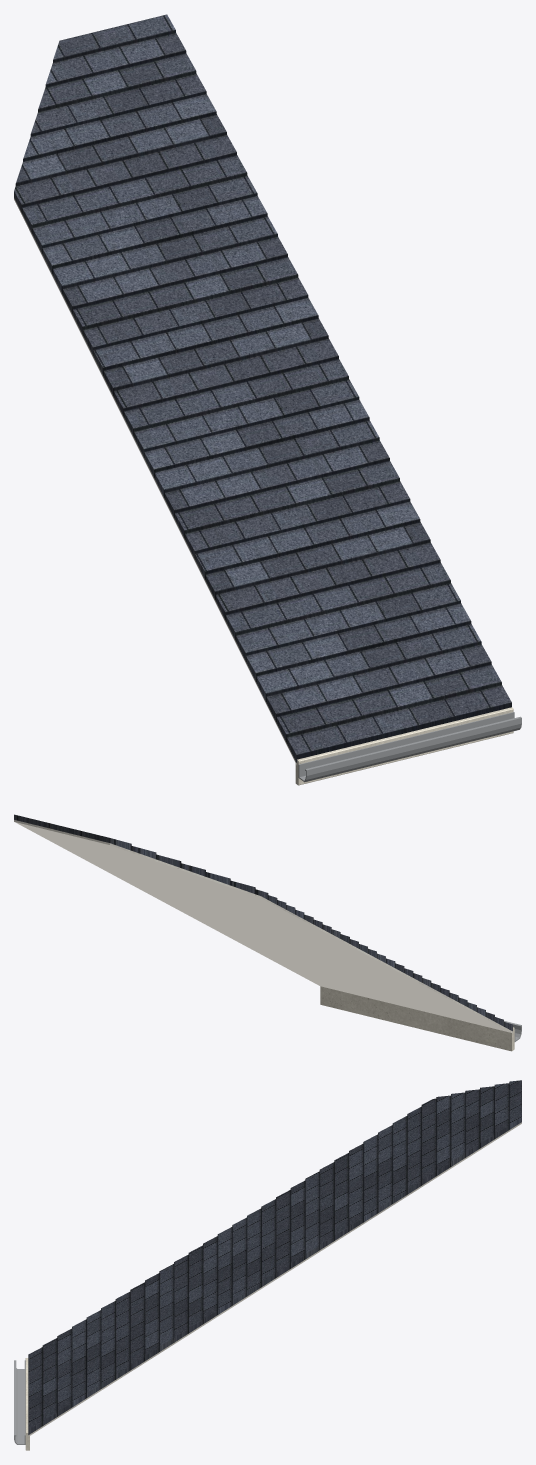
The model's file is roof_main_2_l.glb.
The picture shows the model from 3 angles, top to bottom: view 1: azimuth 30°, elevation 25°; view 2: azimuth 150°, elevation 25°; view 3: azimuth 270°, elevation 25°; orthographic projection. The views are drawn at different scales.
Parts seen in each view (by area): view 1: roof_main_2_l_shingles, roof_main_2_l_gutter, roof_main_2_l_trim; view 2: roof_main_2_l_plaster, roof_main_2_l_trim, roof_main_2_l_shingles; view 3: roof_main_2_l_shingles, roof_main_2_l_plaster, roof_main_2_l_gutter.
Boxes of the visible parts, x1,y1,x2,y2 form: roof_main_2_l_shingles: (14, 14, 511, 762); roof_main_2_l_gutter: (298, 712, 521, 782); roof_main_2_l_trim: (295, 707, 513, 785); roof_main_2_l_plaster: (14, 820, 512, 1033); roof_main_2_l_trim: (320, 986, 514, 1051); roof_main_2_l_shingles: (14, 814, 512, 1031); roof_main_2_l_shingles: (28, 1080, 521, 1434); roof_main_2_l_plaster: (28, 1122, 521, 1436); roof_main_2_l_gutter: (14, 1360, 25, 1444).
Size of the model in its own units: 2 by 4.13 by 5.71.
Materials: 4 (3 with a texture image).
